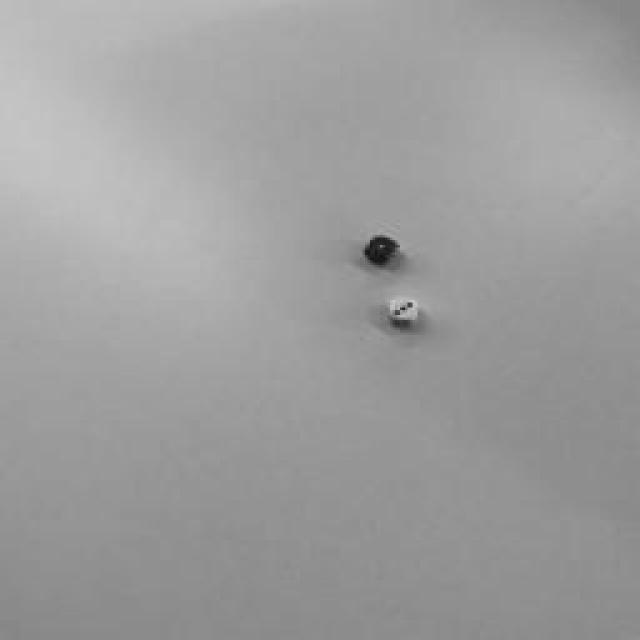dice_1: (367, 236, 395, 256)
dice_3: (392, 300, 416, 320)
